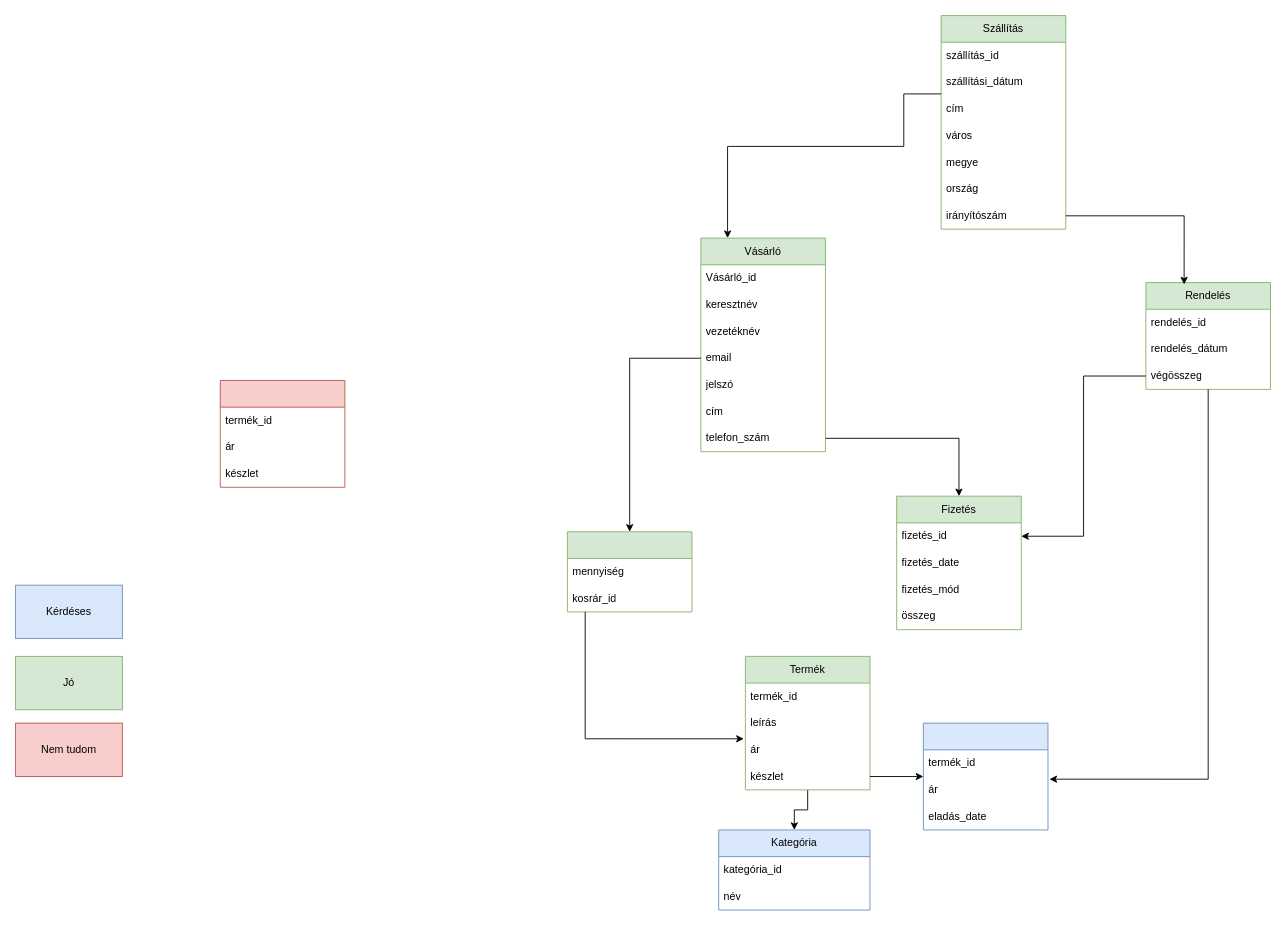
The diagram is 1286 pixels wide and 926 high, and some of its shapes have lost their labels. The box of each missing label's shape, as (x1, y1, x2, y2) in pixels:
Kedvenc: (219, 380, 345, 487)
Kosár: (566, 531, 692, 612)
Árfolyam: (922, 722, 1048, 830)
